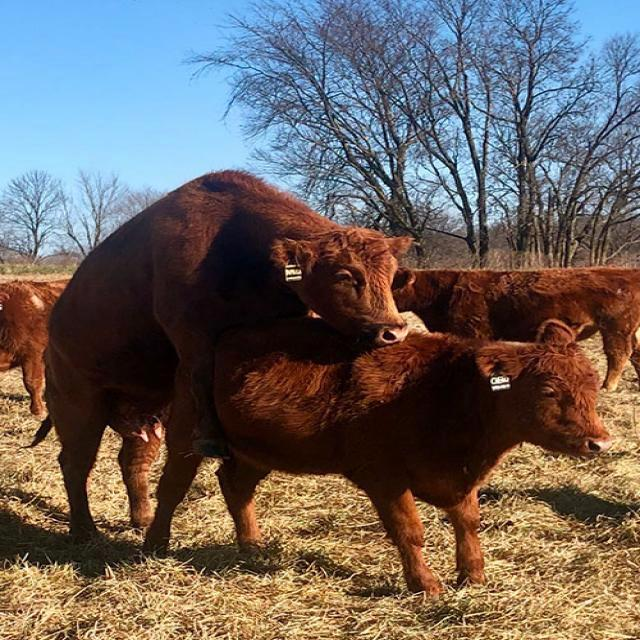cow: (41, 171, 409, 547), (215, 318, 610, 594)
